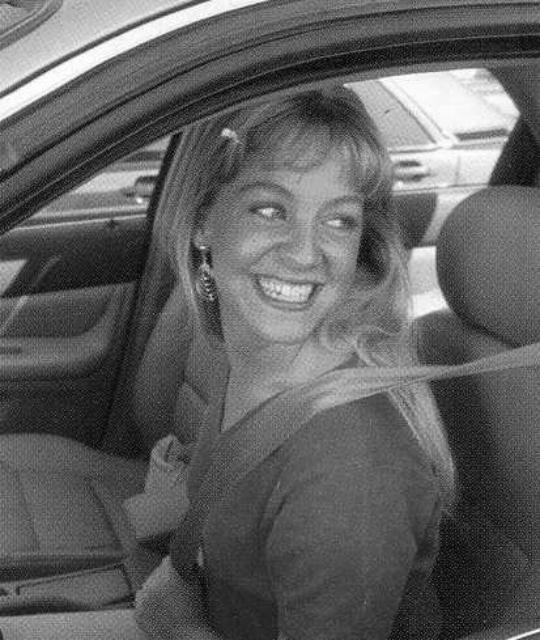Seatbelt: (156, 334, 540, 586)
